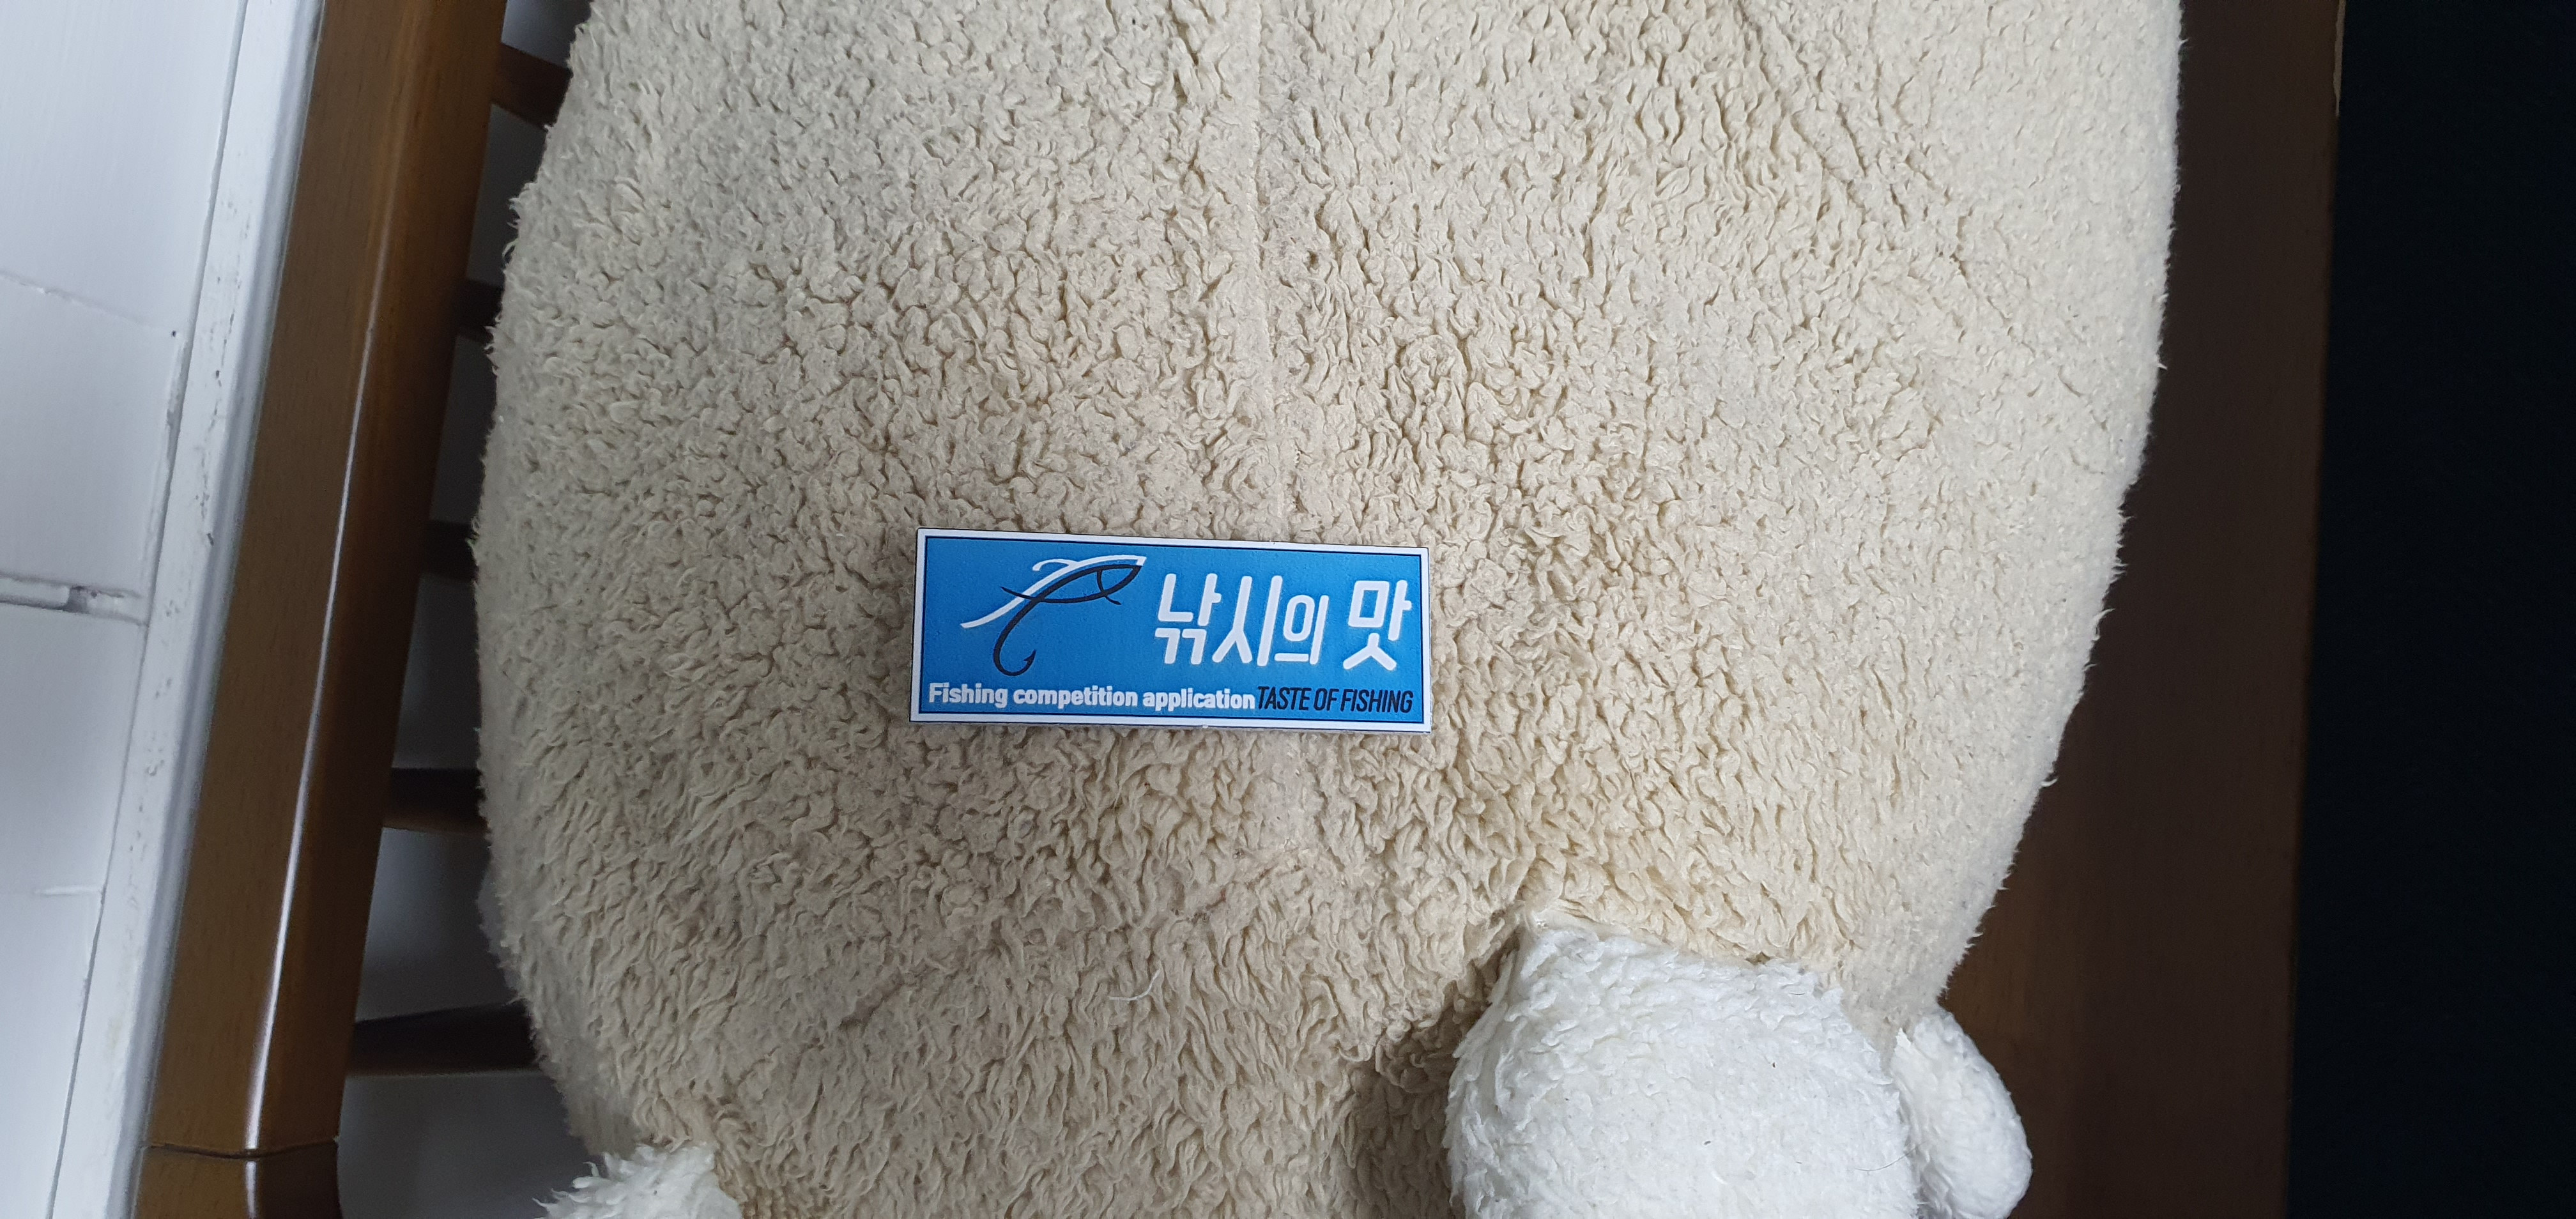tag: (912, 531, 1429, 734)
